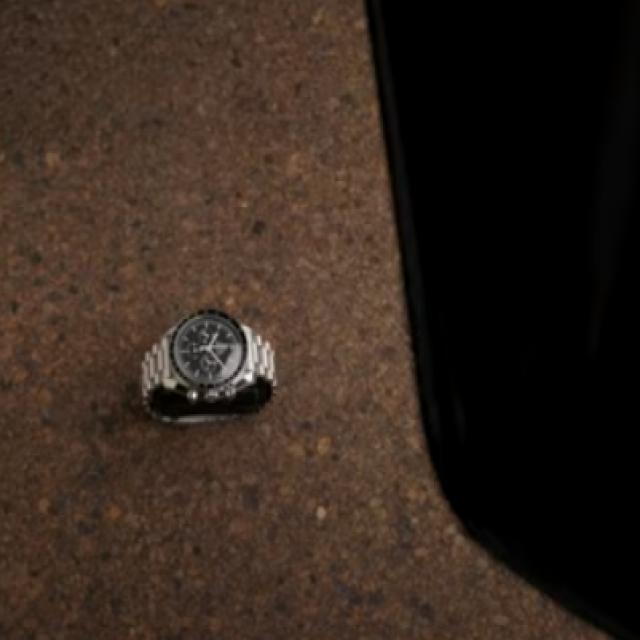Watch: (134, 308, 276, 422)
